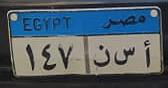1: (24, 43, 36, 72)
4: (39, 42, 58, 72)
7: (57, 41, 74, 70)
alif: (141, 39, 153, 70)
noon: (92, 43, 111, 70)
seen: (112, 43, 135, 69)
